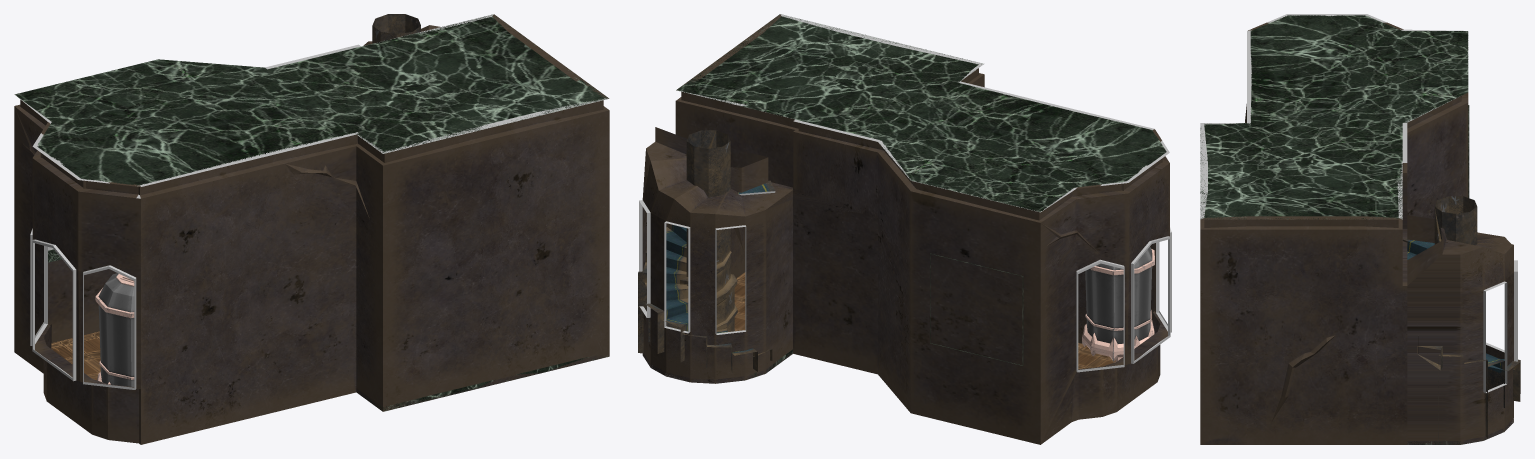
The model's file is ForTheLastTime.fbx.
The picture shows the model from 3 angles, left to right: view 1: azimuth 30°, elevation 25°; view 2: azimuth 150°, elevation 25°; view 3: azimuth 270°, elevation 25°; orthographic projection. The views are drawn at different scales.
Parts seen in each view (by area): view 1: RoomMuren, RoomPlafond, KooiBars, RoomVloer, Stairsbase, KooiStaal1; view 2: RoomMuren, RoomPlafond, Stairsbase, StairsTop, KooiBars, KooiStaal1, RoomVloer; view 3: RoomMuren, RoomPlafond, Stairsbase, StairsTop.
Part boxes in pixels (x1,y1,x2,y2): RoomMuren: (14, 14, 609, 444); RoomPlafond: (14, 14, 608, 185); KooiBars: (98, 273, 134, 386); RoomVloer: (51, 331, 100, 380); Stairsbase: (372, 14, 420, 43); KooiStaal1: (95, 274, 134, 384); RoomMuren: (639, 14, 1171, 444); RoomPlafond: (676, 14, 1166, 211); Stairsbase: (680, 130, 737, 331); StairsTop: (638, 180, 775, 372); KooiBars: (1085, 247, 1152, 343); KooiStaal1: (1082, 249, 1154, 362); RoomVloer: (734, 272, 1115, 369); RoomMuren: (1200, 14, 1517, 444); RoomPlafond: (1200, 15, 1468, 219); Stairsbase: (1434, 196, 1477, 245); StairsTop: (1402, 238, 1520, 438).
Bounding box in the file's own units: 20.25 × 10.5 × 12.99.
